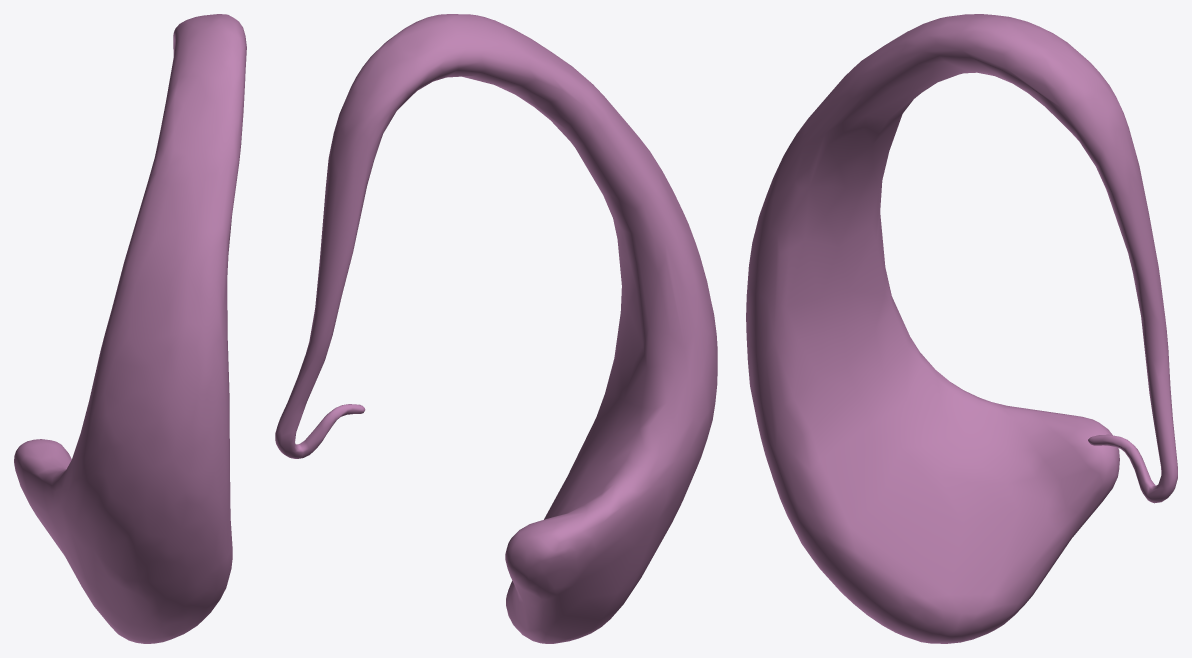
3 renders of one model, left to right at view 1: azimuth 30°, elevation 25°; view 2: azimuth 150°, elevation 25°; view 3: azimuth 270°, elevation 25°, orthographic. The views are drawn at different scales.
Visible parts, largest first — view 1: 左侧尾状核; view 2: 左侧尾状核; view 3: 左侧尾状核.
Boxes of the visible parts, x1,y1,x2,y2 form: 左侧尾状核: (14,14,246,643); 左侧尾状核: (275,14,717,643); 左侧尾状核: (746,14,1177,643).
Size of the model in its own units: 0.0455 by 0.0909 by 0.053.
